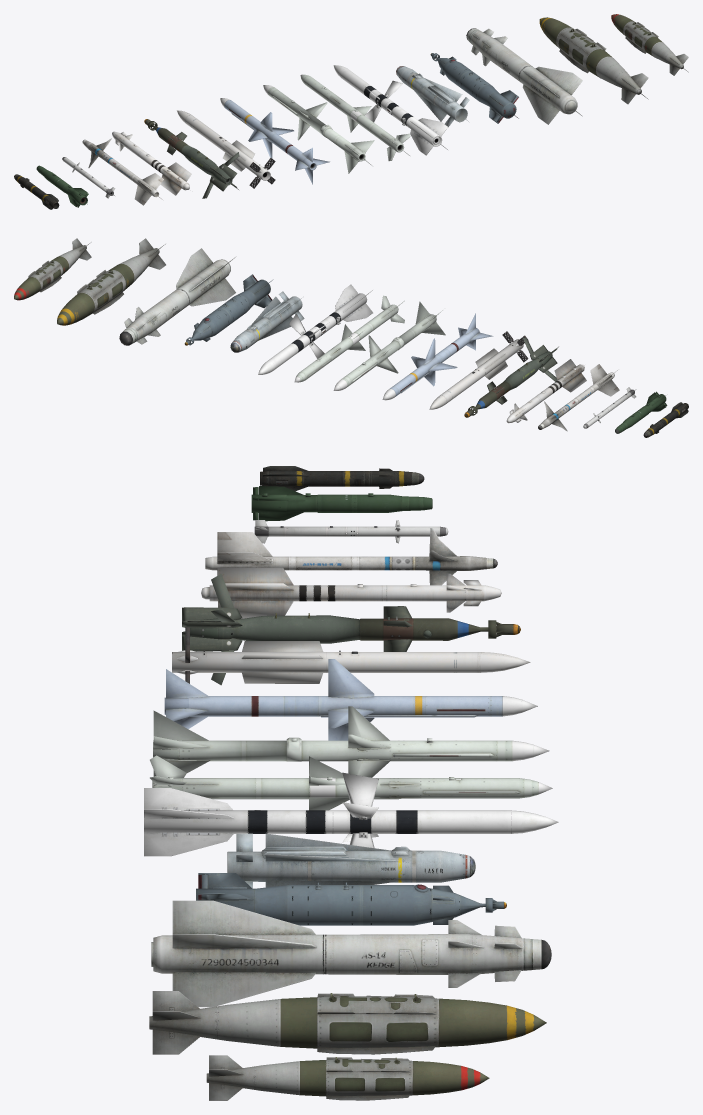
The model's file is missile__bomb_collection_-_fighter_jets_-_free.glb.
3 views of the same model, one above another, from view 1: azimuth 30°, elevation 25°; view 2: azimuth 150°, elevation 25°; view 3: azimuth 270°, elevation 25° (orthographic). The views are drawn at different scales.
Visible parts, largest first — view 1: Kh-29_2, JDAM_1, R-27 (2)_5, KAB-500L_3, AIM-7 Sparrow_8, PL-11_7, AGM-65 Maverick_4, GBU-12 Paveway II_10, PL-11 (2)_6, R-77_9, JDAM (2)_0, R-27_11 (+4 smaller); view 2: Kh-29_2, JDAM_1, R-27 (2)_5, KAB-500L_3, AIM-7 Sparrow_8, PL-11_7, AGM-65 Maverick_4, GBU-12 Paveway II_10, R-77_9, PL-11 (2)_6, JDAM (2)_0, R-27_11 (+4 smaller); view 3: Kh-29_2, JDAM_1, R-27 (2)_5, PL-11_7, KAB-500L_3, AIM-7 Sparrow_8, GBU-12 Paveway II_10, JDAM (2)_0, AGM-65 Maverick_4, R-77_9, PL-11 (2)_6, R-27_11 (+4 smaller).
Part boxes in pixels (x1,y1,x2,y2): Kh-29_2: [466, 28, 582, 124]; JDAM_1: [539, 17, 648, 104]; R-27 (2)_5: [333, 65, 448, 155]; KAB-500L_3: [430, 53, 518, 123]; AIM-7 Sparrow_8: [220, 98, 329, 184]; PL-11_7: [263, 85, 374, 173]; AGM-65 Maverick_4: [396, 66, 469, 126]; GBU-12 Paveway II_10: [144, 119, 239, 198]; PL-11 (2)_6: [300, 74, 410, 161]; R-77_9: [177, 110, 275, 188]; JDAM (2)_0: [611, 14, 688, 75]; R-27_11: [112, 131, 191, 195]; Kh-29_2: [119, 248, 236, 345]; JDAM_1: [57, 238, 165, 325]; R-27 (2)_5: [258, 284, 372, 374]; KAB-500L_3: [184, 274, 273, 345]; AIM-7 Sparrow_8: [382, 313, 493, 400]; PL-11_7: [333, 301, 445, 390]; AGM-65 Maverick_4: [230, 291, 304, 352]; GBU-12 Paveway II_10: [464, 337, 558, 417]; R-77_9: [429, 331, 528, 409]; PL-11 (2)_6: [294, 295, 404, 382]; JDAM (2)_0: [14, 238, 91, 300]; R-27_11: [506, 359, 586, 423]; Kh-29_2: [151, 900, 551, 1007]; JDAM_1: [149, 991, 546, 1054]; R-27 (2)_5: [144, 772, 558, 856]; PL-11_7: [153, 706, 549, 777]; KAB-500L_3: [196, 873, 506, 925]; AIM-7 Sparrow_8: [164, 659, 537, 740]; GBU-12 Paveway II_10: [182, 573, 520, 685]; JDAM (2)_0: [206, 1055, 489, 1100]; AGM-65 Maverick_4: [227, 833, 475, 888]; R-77_9: [172, 627, 530, 683]; PL-11 (2)_6: [150, 755, 552, 810]; R-27_11: [201, 567, 501, 618].
Bounding box in the file's own units: 14.39 × 1.04 × 4.14.
Materials: 16 (16 with a texture image).
